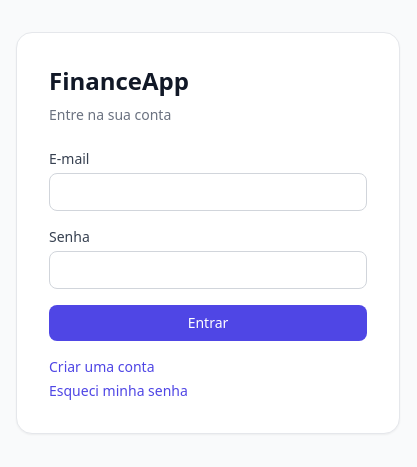
Login page › shows info message after successful signup
Click the button "Criar uma conta" at (102, 366), box [49, 357, 367, 377]
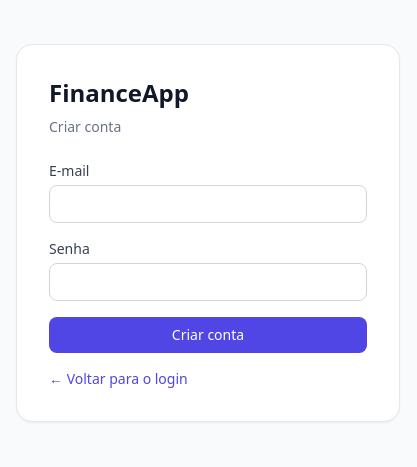
Type "new@test.com" into the field labelled "E-mail" at (208, 204), box [49, 185, 367, 223]
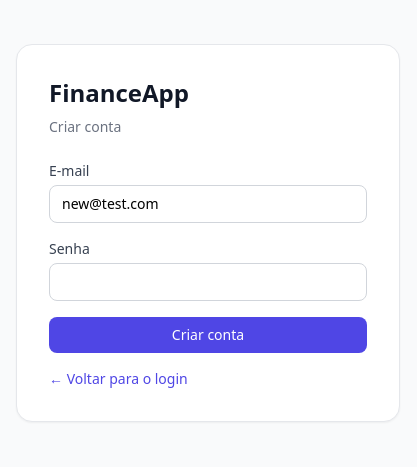
Type "pass123" into the password field labelled "Senha" at (208, 282), box [49, 263, 367, 301]
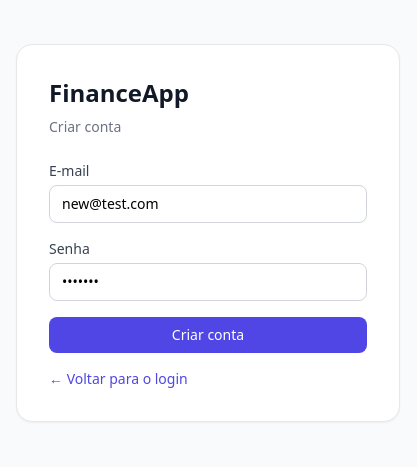
Click the button "Criar conta" at (208, 335), box [49, 317, 367, 353]
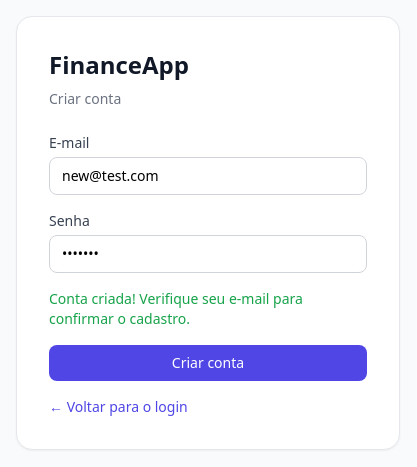
Expected: the text "Verifique seu e-mail" is shown, [49, 289, 303, 328]
